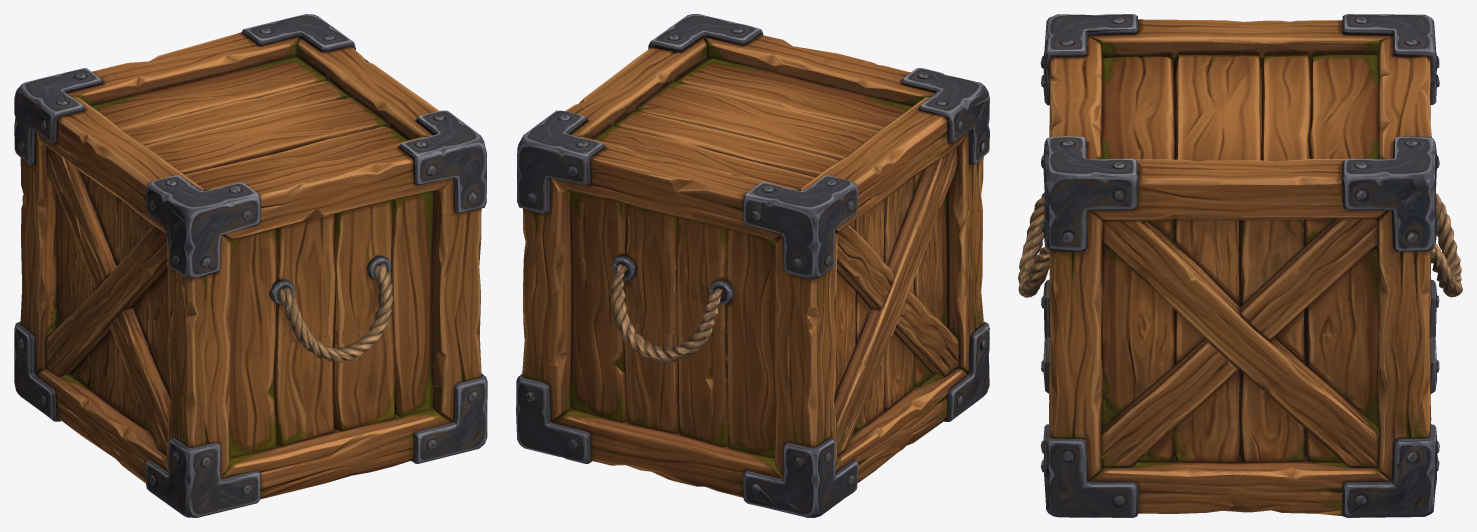
Rendered from crate_v2.glb.
3 views of the same model, side by side, from view 1: azimuth 30°, elevation 25°; view 2: azimuth 150°, elevation 25°; view 3: azimuth 270°, elevation 25° (orthographic). The views are drawn at different scales.
Size of the model in its own units: 1.69 by 1.64 by 1.9.
Materials: 1 (1 with a texture image).
